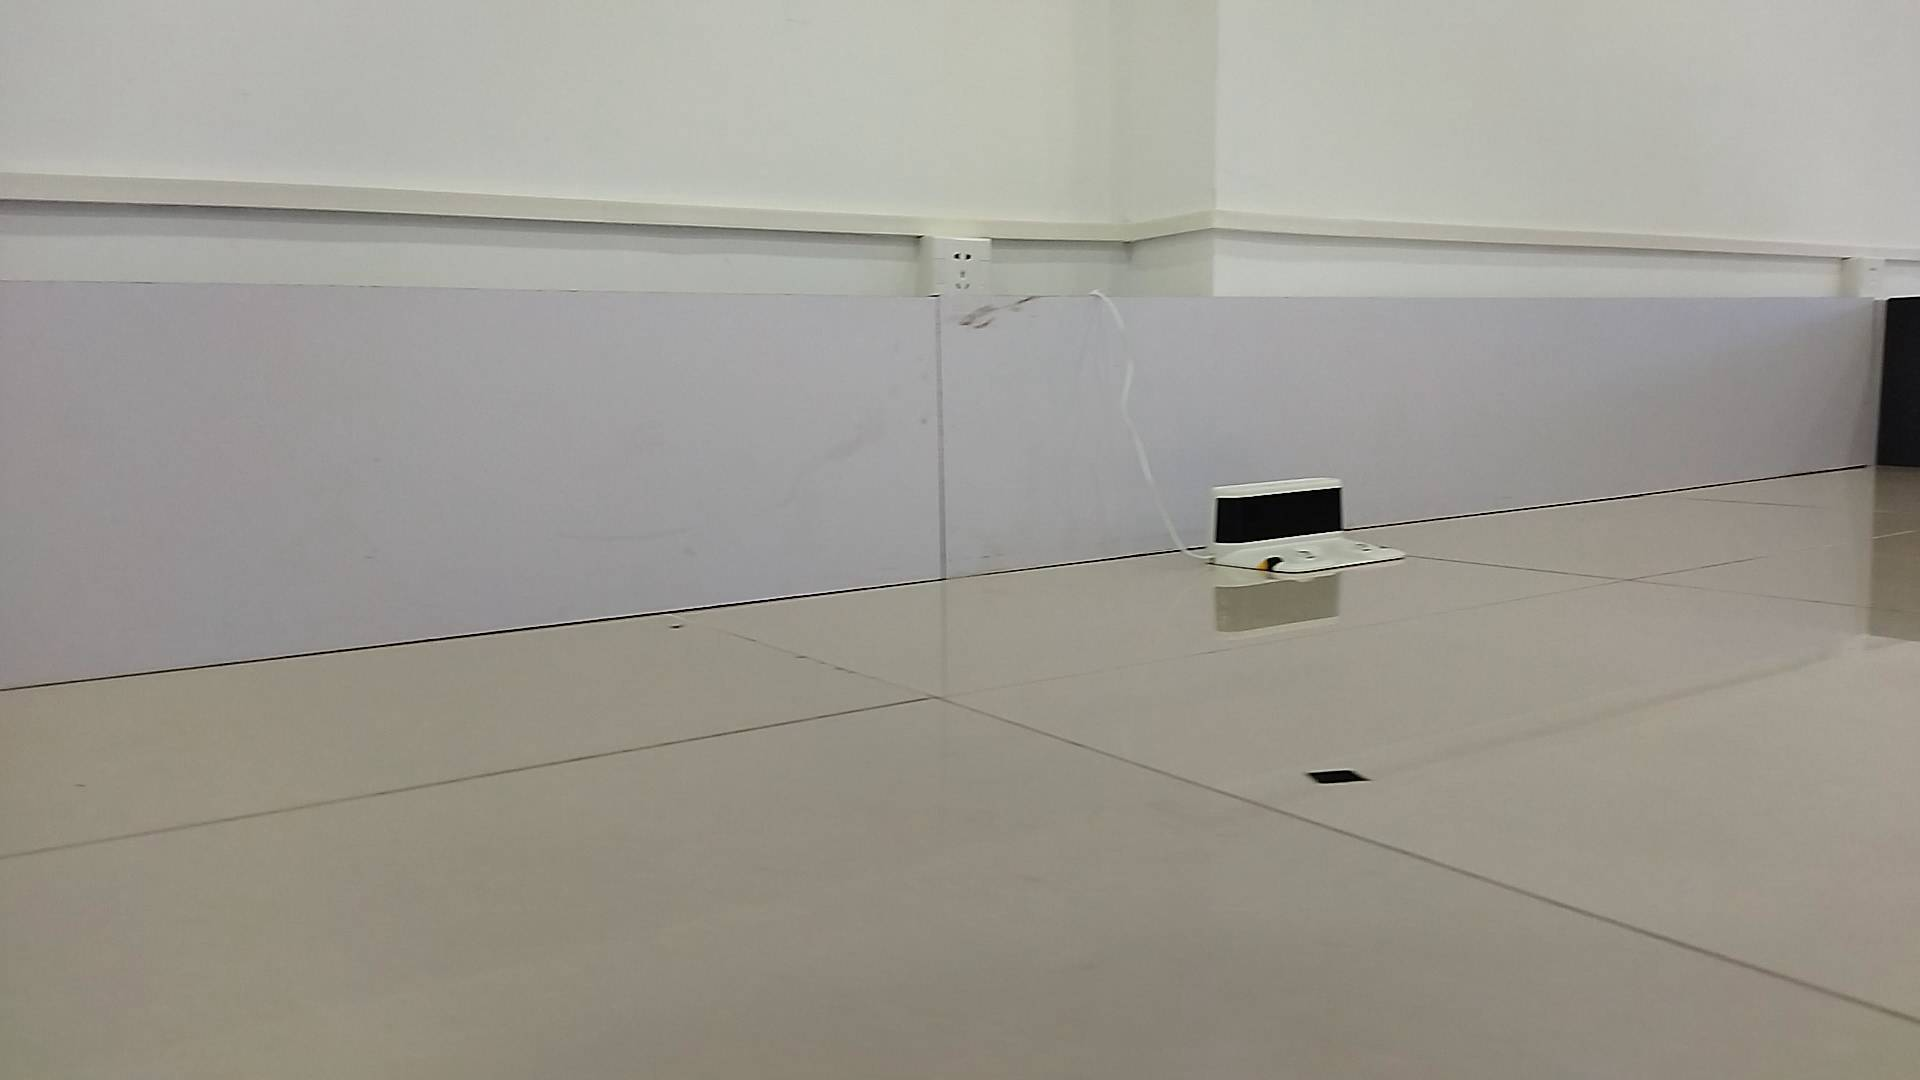recharge seat: (1207, 477, 1411, 571)
